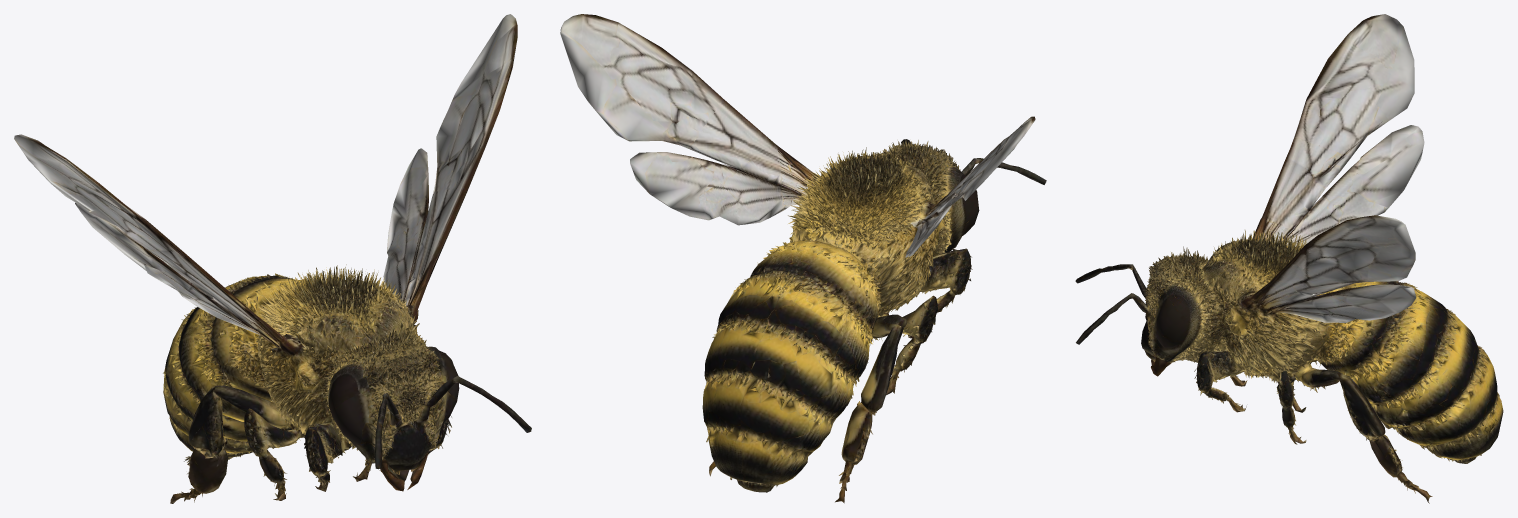
Rendered from bee.glb.
3 renders of one model, left to right at view 1: azimuth 30°, elevation 25°; view 2: azimuth 150°, elevation 25°; view 3: azimuth 270°, elevation 25°, orthographic. The views are drawn at different scales.
Size of the model in its own units: 1.9 by 1.59 by 1.71.
Materials: 1 (1 with a texture image).
